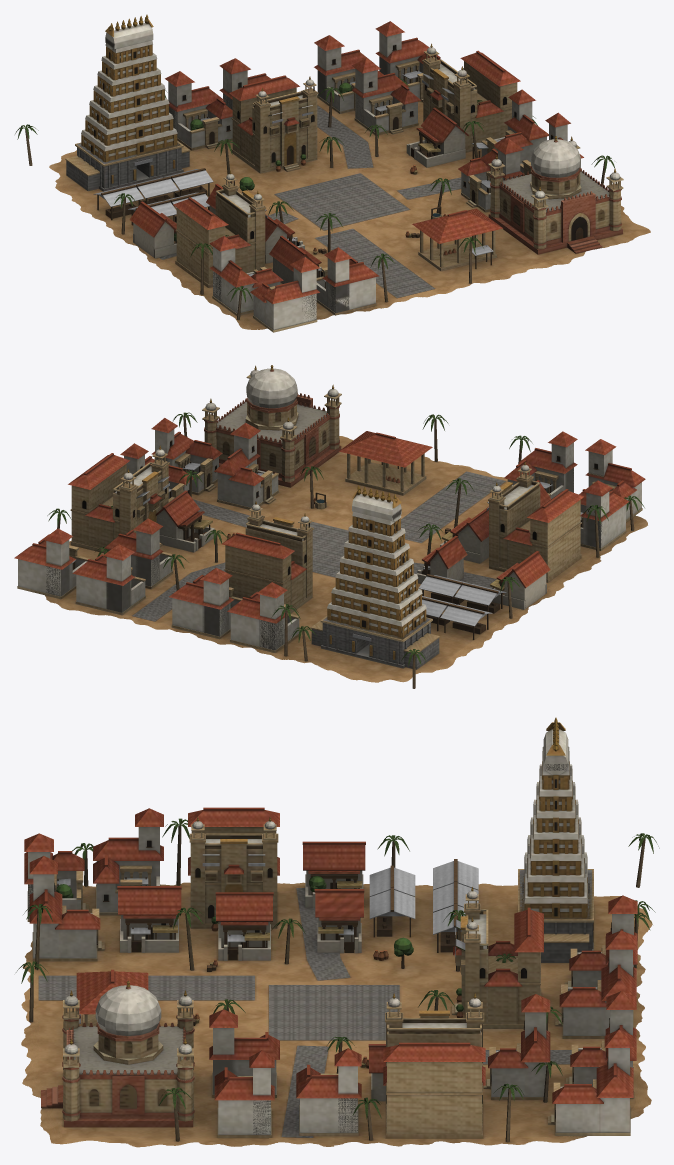
Rendered from kingdoms-town-medium-b-indic-f31d61ec.glb.
The picture shows the model from 3 angles, top to bottom: view 1: azimuth 30°, elevation 25°; view 2: azimuth 150°, elevation 25°; view 3: azimuth 270°, elevation 25°; orthographic projection. The views are drawn at different scales.
Parts seen in each view (by area): view 1: LOD0; view 2: LOD0; view 3: LOD0.
Part boxes in pixels (x1,y1,x2,y2): LOD0: [15, 14, 650, 332]; LOD0: [14, 365, 647, 688]; LOD0: [16, 717, 659, 1147].
Size of what is drawn, in the model's own units: 6.11 by 2.14 by 6.12.
Materials: 3 (3 with a texture image).
